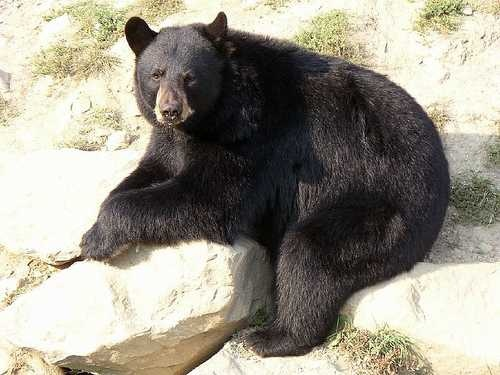bear: (117, 9, 245, 137)
